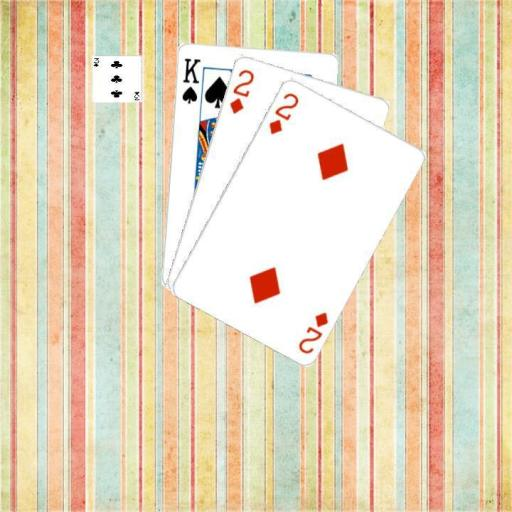card-corner: (294, 308, 330, 355), (265, 89, 300, 136), (226, 66, 255, 116), (178, 54, 201, 105)
